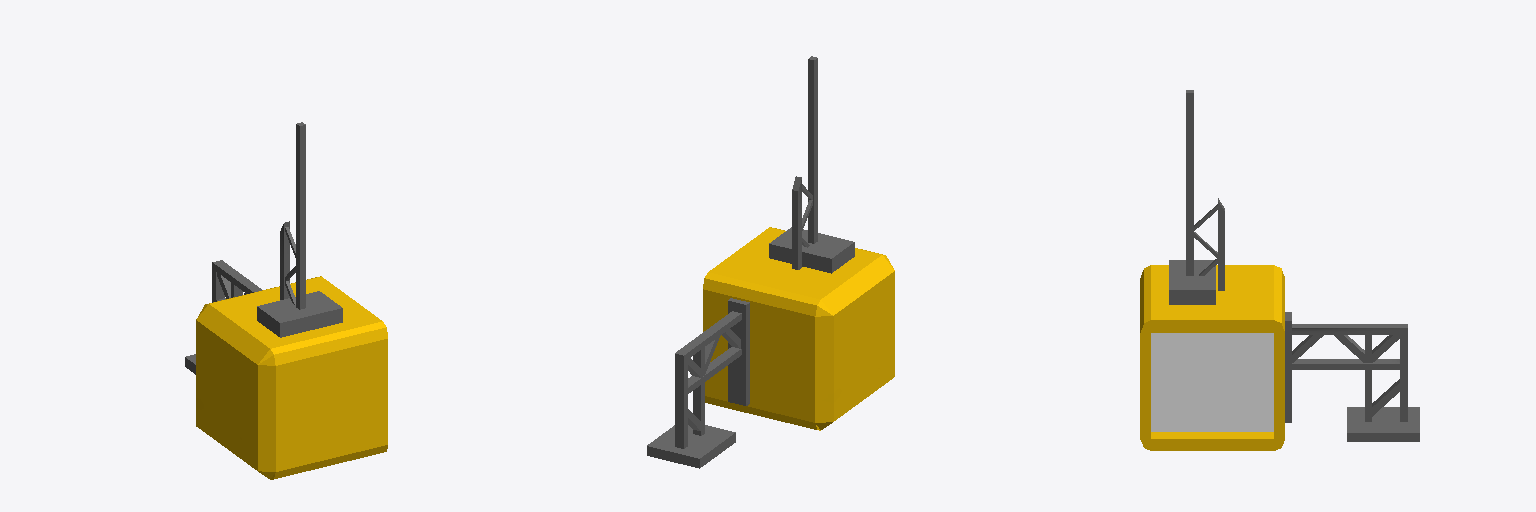
The picture shows the model from 3 angles: view 1: azimuth 30°, elevation 25°; view 2: azimuth 150°, elevation 25°; view 3: azimuth 270°, elevation 25°; orthographic projection.
Parts seen in each view (by area): view 1: TV_立方体.012; view 2: TV_立方体.012; view 3: TV_立方体.012.
Boxes of the visible parts, x1=… form: TV_立方体.012: x1=185, y1=122, x2=387, y2=479; TV_立方体.012: x1=647, y1=56, x2=894, y2=468; TV_立方体.012: x1=1140, y1=90, x2=1419, y2=450.
Bounding box in the file's own units: 0.4 × 1 × 0.7713.
Materials: 1 (1 with a texture image).